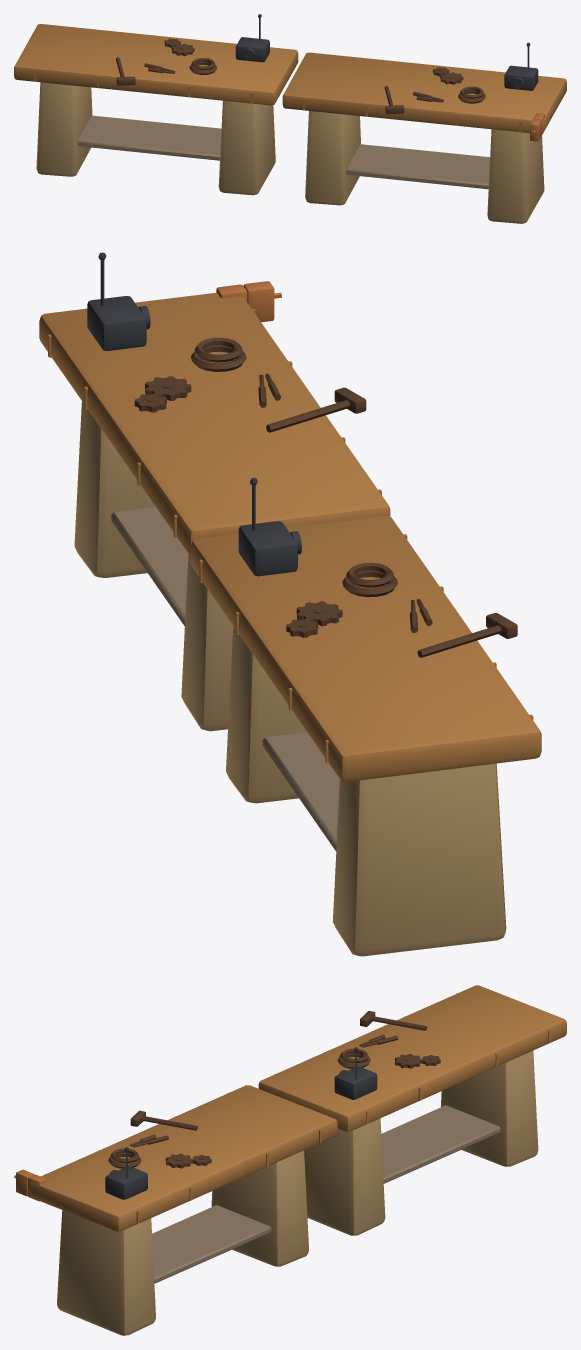
The model's file is nomad_building_b19_decor.fbx.
The picture shows the model from 3 angles, top to bottom: view 1: azimuth 30°, elevation 25°; view 2: azimuth 150°, elevation 25°; view 3: azimuth 270°, elevation 25°; orthographic projection. The views are drawn at different scales.
Parts seen in each view (by area): view 1: C__Workbench__02, C__Workbench__01; view 2: C__Workbench__01, C__Workbench__02; view 3: C__Workbench__02, C__Workbench__01.
Boxes of the visible parts, bbox=[...] form: C__Workbench__02: bbox=[282, 42, 566, 223]; C__Workbench__01: bbox=[14, 14, 298, 195]; C__Workbench__01: bbox=[190, 477, 541, 956]; C__Workbench__02: bbox=[39, 252, 390, 731]; C__Workbench__02: bbox=[14, 1085, 337, 1335]; C__Workbench__01: bbox=[258, 985, 566, 1235].
Size of the model in its own units: 500 by 184 by 502.
